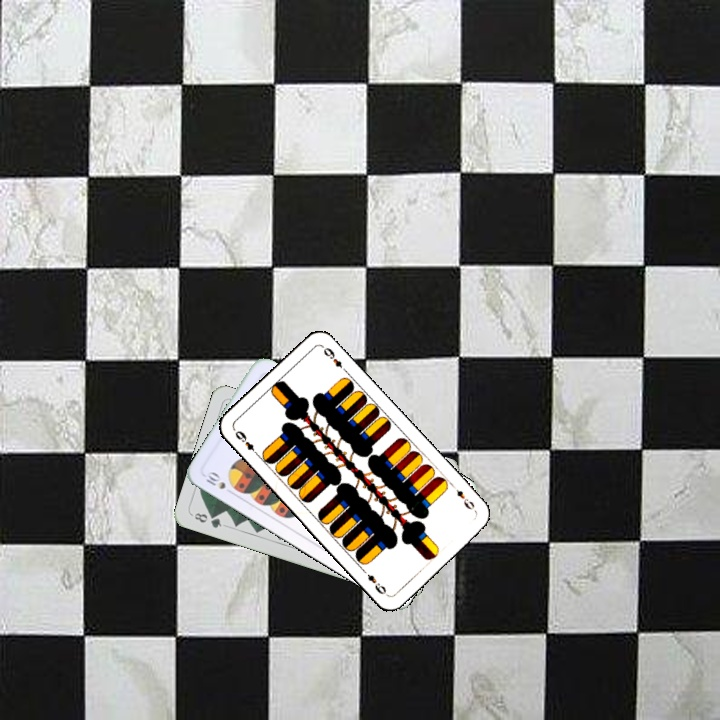E9: (230, 426, 261, 459), (447, 481, 478, 514)
G8: (190, 509, 224, 531)
S10: (201, 467, 237, 497)
